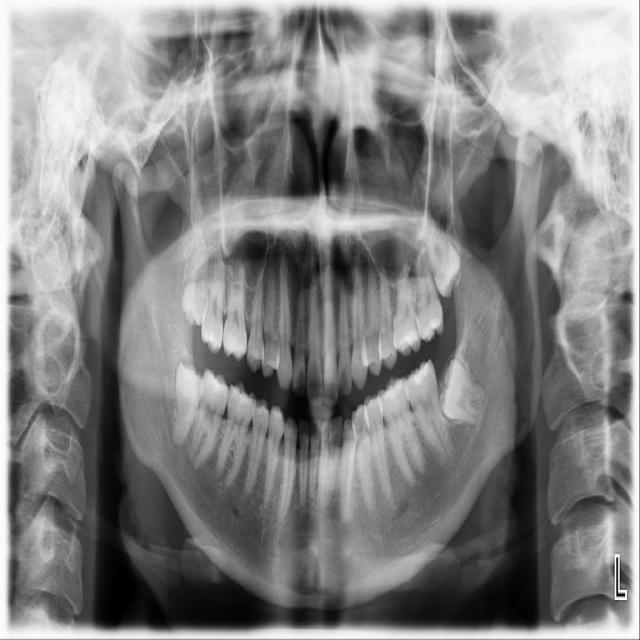impacted tooth: (409, 219, 457, 296), (439, 359, 495, 422), (169, 364, 201, 450)
